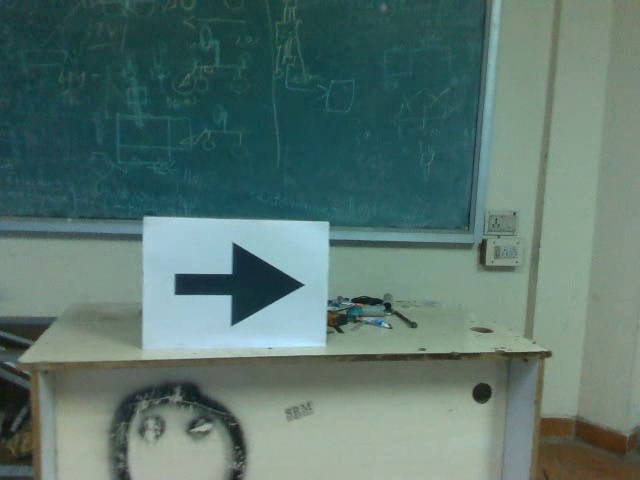Right: (165, 235, 311, 329)
